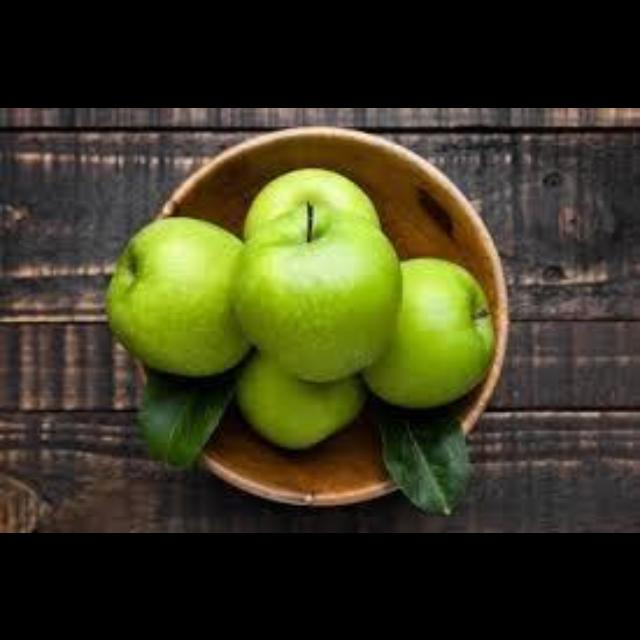apple: (233, 202, 400, 379), (107, 216, 249, 375), (363, 258, 493, 407), (235, 351, 363, 447), (244, 168, 379, 235)
